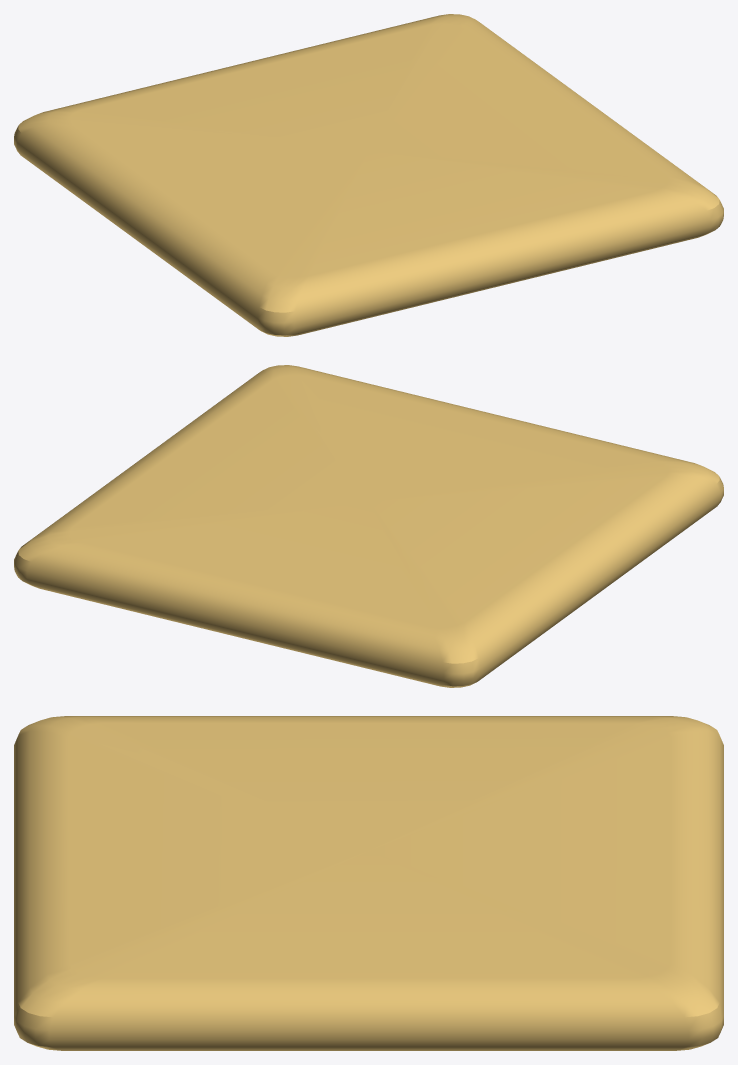
The model's file is MD_Cheese.fbx.
3 views of the same model, one above another, from view 1: azimuth 30°, elevation 25°; view 2: azimuth 150°, elevation 25°; view 3: azimuth 270°, elevation 25° (orthographic). The views are drawn at different scales.
Parts seen in each view (by area): view 1: Cheese; view 2: Cheese; view 3: Cheese.
Boxes of the visible parts, box(x1,y1,x2,y2) form: Cheese: box(14, 14, 723, 336); Cheese: box(14, 365, 723, 687); Cheese: box(14, 716, 723, 1050).
Size of the model in its own units: 1.95 by 0.189 by 1.95.
